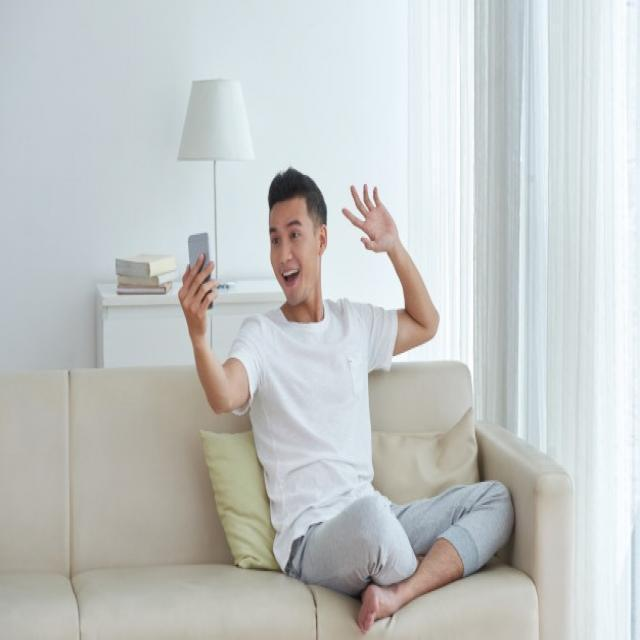sitting: (166, 157, 518, 621)
